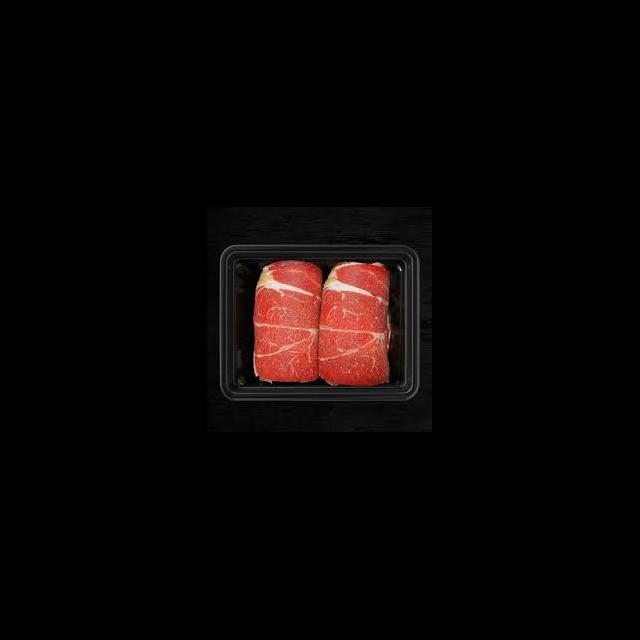beef: (251, 261, 395, 386)
